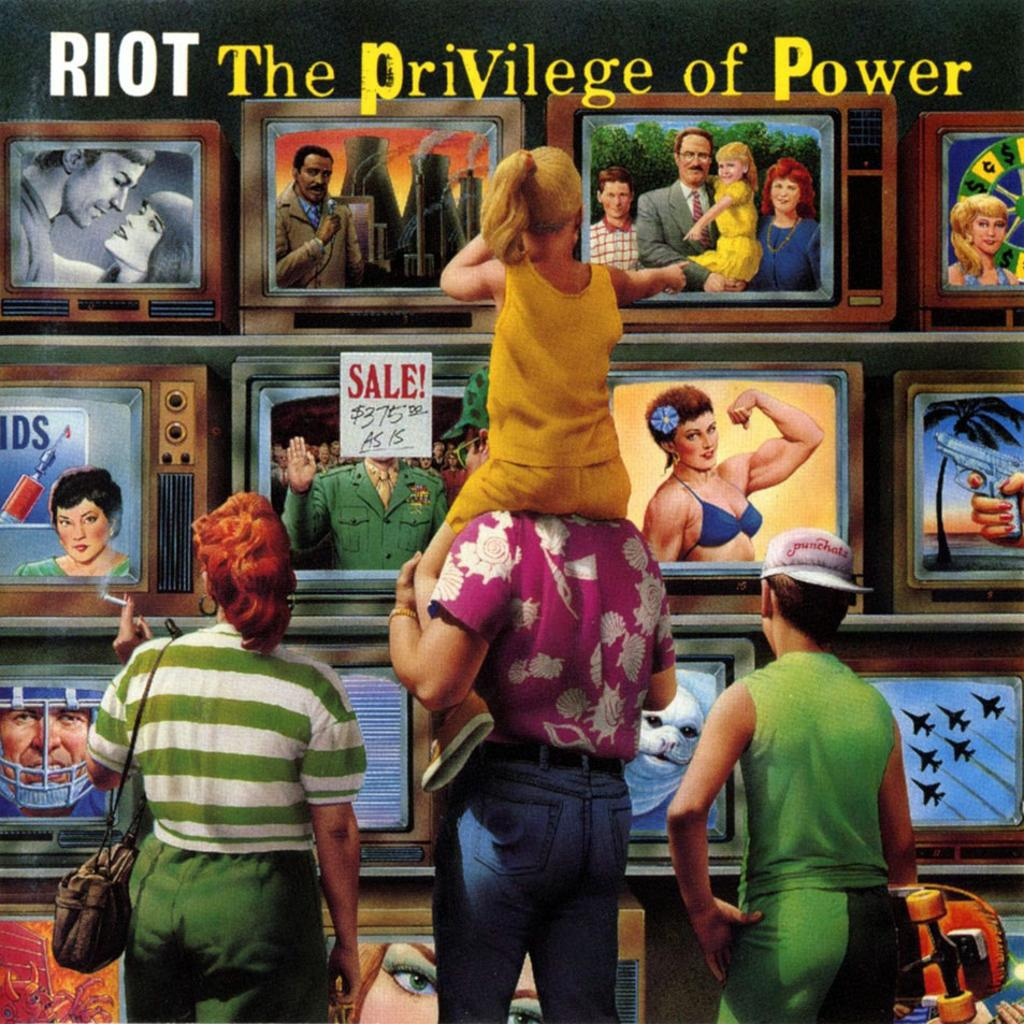face: (360, 900, 565, 1024), (10, 711, 94, 804), (71, 153, 149, 229), (105, 205, 173, 266), (57, 494, 109, 561), (673, 411, 719, 470), (301, 155, 332, 202), (974, 212, 1008, 253), (681, 136, 711, 182), (771, 174, 800, 212), (603, 182, 632, 218), (718, 156, 744, 182), (421, 454, 432, 468), (280, 454, 289, 467), (435, 446, 444, 457), (321, 450, 329, 462), (333, 446, 341, 456), (449, 455, 457, 464)
